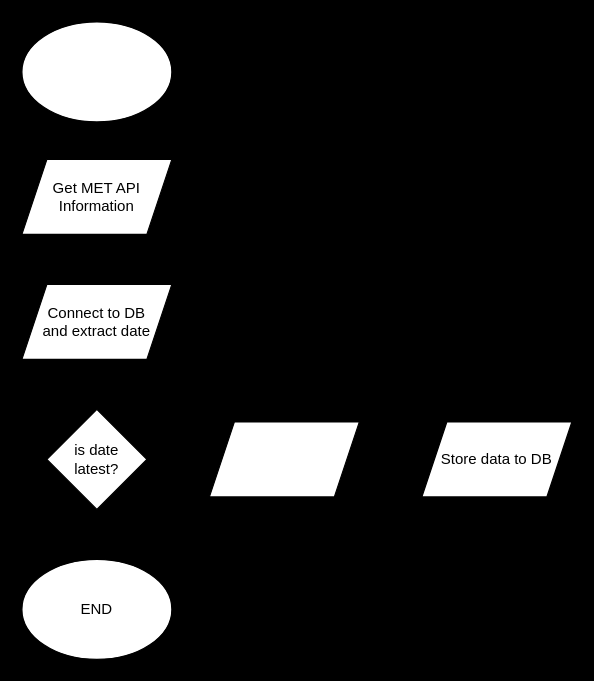
Some shapes in this 594 by 681 pixel diagram are drawn without their labels. The centre of each missing label's shape, as x and y in pixels:
"Request data from MET API" goes at [283,459].
"START" goes at [96,71].
